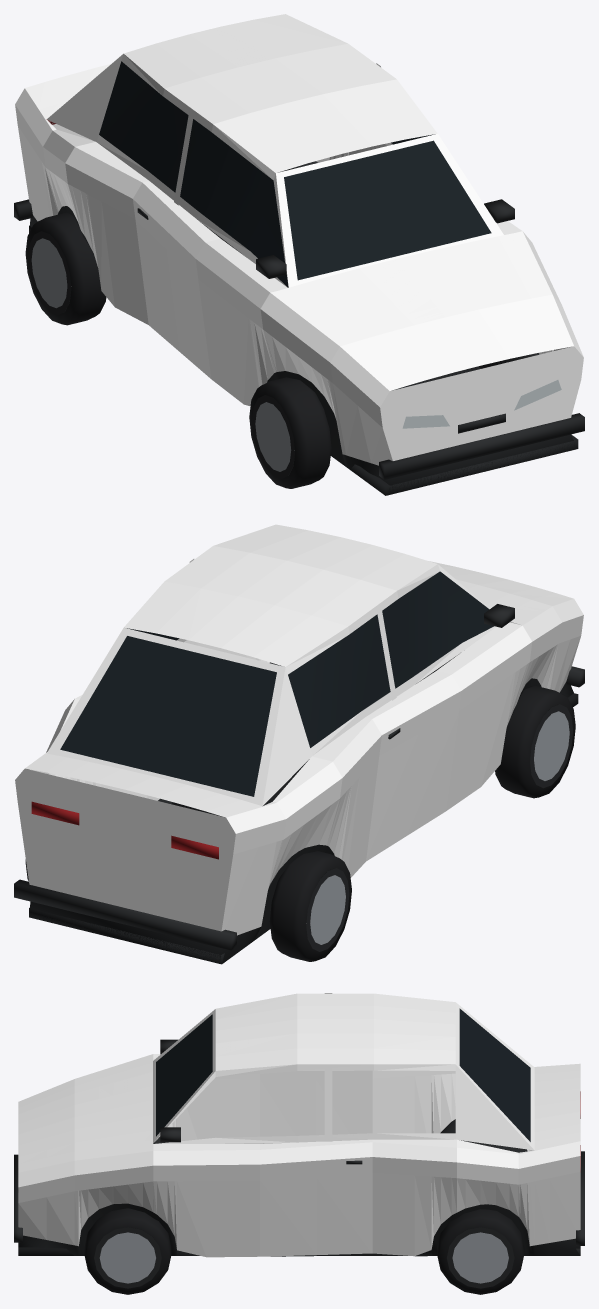
The model's file is whitlock_amora.glb.
The picture shows the model from 3 angles, top to bottom: view 1: azimuth 30°, elevation 25°; view 2: azimuth 150°, elevation 25°; view 3: azimuth 270°, elevation 25°; orthographic projection. The views are drawn at different scales.
Visible parts, largest first — view 1: Body_Paint, Body_Details, Mount_FrontLeft_Wheel_Details, Mount_RearLeft_Wheel_Details; view 2: Body_Paint, Body_Details, Mount_RearLeft_Wheel_Details, Mount_FrontLeft_Wheel_Details; view 3: Body_Paint, Body_Details, Mount_FrontRight_Wheel_Details, Mount_RearRight_Wheel_Details.
Part boxes in pixels (<box>): Body_Paint: <box>15,14,583,465</box>; Body_Details: <box>14,61,584,495</box>; Mount_FrontLeft_Wheel_Details: <box>249,377,331,488</box>; Mount_RearLeft_Wheel_Details: <box>25,213,106,325</box>; Body_Paint: <box>15,524,583,935</box>; Body_Details: <box>14,571,584,964</box>; Mount_RearLeft_Wheel_Details: <box>269,851,351,961</box>; Mount_FrontLeft_Wheel_Details: <box>495,686,575,798</box>; Body_Paint: <box>18,993,580,1257</box>; Body_Details: <box>14,1008,584,1256</box>; Mount_FrontRight_Wheel_Details: <box>84,1208,171,1294</box>; Mount_RearRight_Wheel_Details: <box>437,1209,524,1294</box>.
Size of the model in its own units: 1.57 by 1.49 by 3.55.
2 materials, 1 textured.
